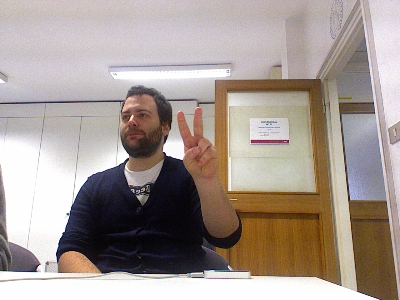剪刀: (175, 106, 220, 180)
